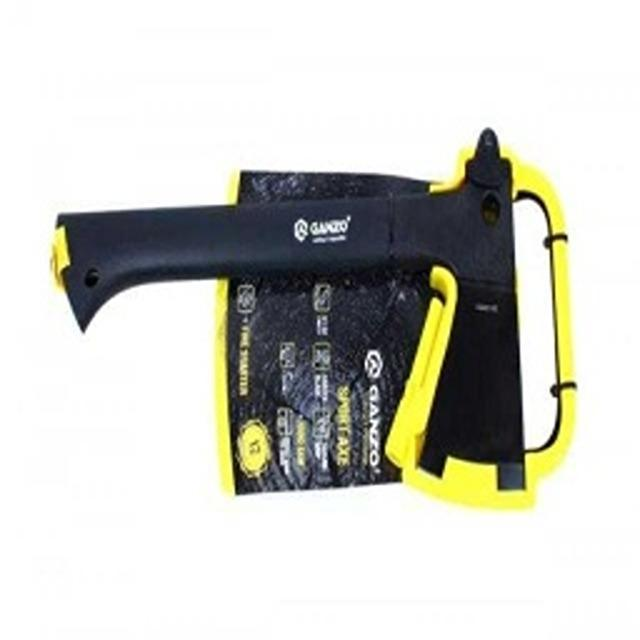ax: (38, 119, 586, 523)
